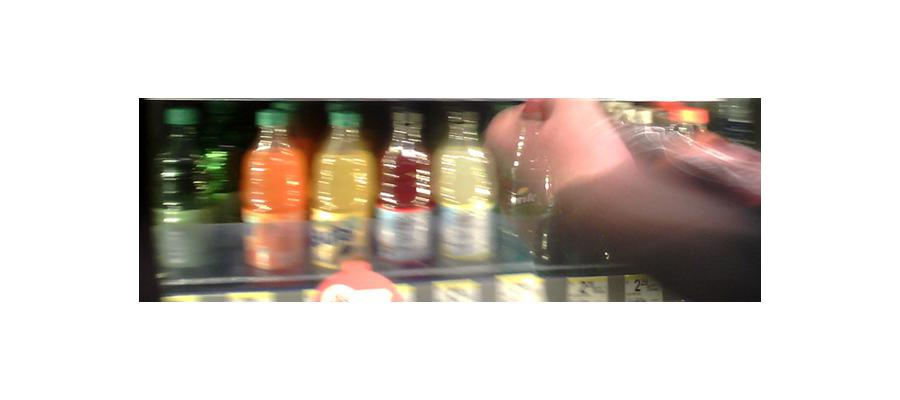bottle: (146, 110, 242, 289), (493, 97, 568, 270), (241, 103, 308, 278), (311, 108, 372, 279), (376, 117, 433, 275), (437, 122, 496, 267)
